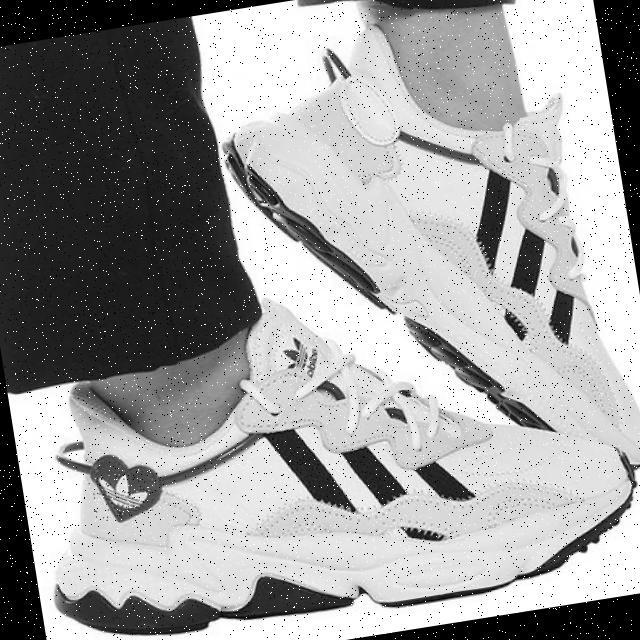Adidas: (88, 469, 155, 523), (272, 331, 330, 393)
